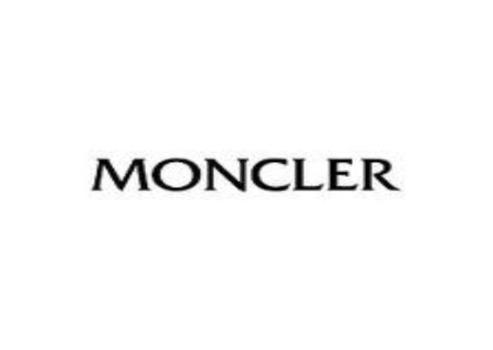MONCLER: (90, 152, 406, 195)
